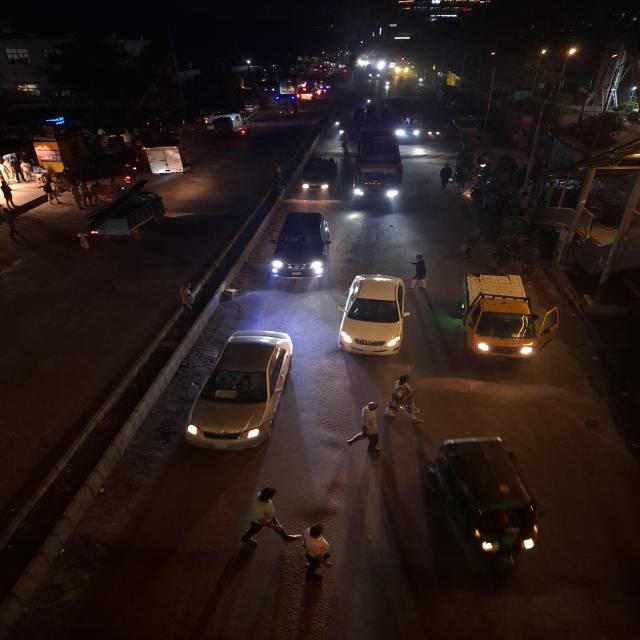bus: (349, 128, 407, 212), (382, 96, 426, 146)
car: (186, 328, 300, 454), (337, 271, 413, 359), (267, 208, 334, 286)
cng: (423, 433, 549, 579)
motorcycle: (408, 252, 431, 290), (333, 116, 345, 138), (338, 138, 351, 158)
pedestrian: (293, 507, 344, 585), (240, 486, 293, 552), (352, 398, 392, 458), (388, 372, 420, 422), (2, 206, 20, 247), (39, 177, 58, 207), (438, 162, 456, 192), (68, 184, 83, 211)
pickup_van: (455, 268, 563, 364), (73, 190, 169, 251), (298, 153, 338, 199)
rickshaw: (494, 215, 535, 259)
truck: (138, 140, 196, 177), (272, 94, 302, 118)
